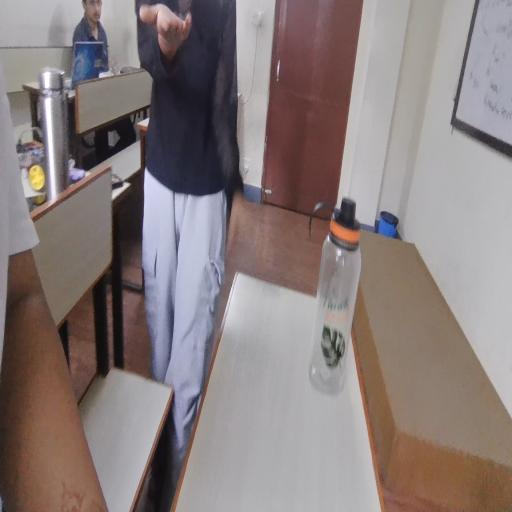Bottle: (315, 195, 366, 396)
